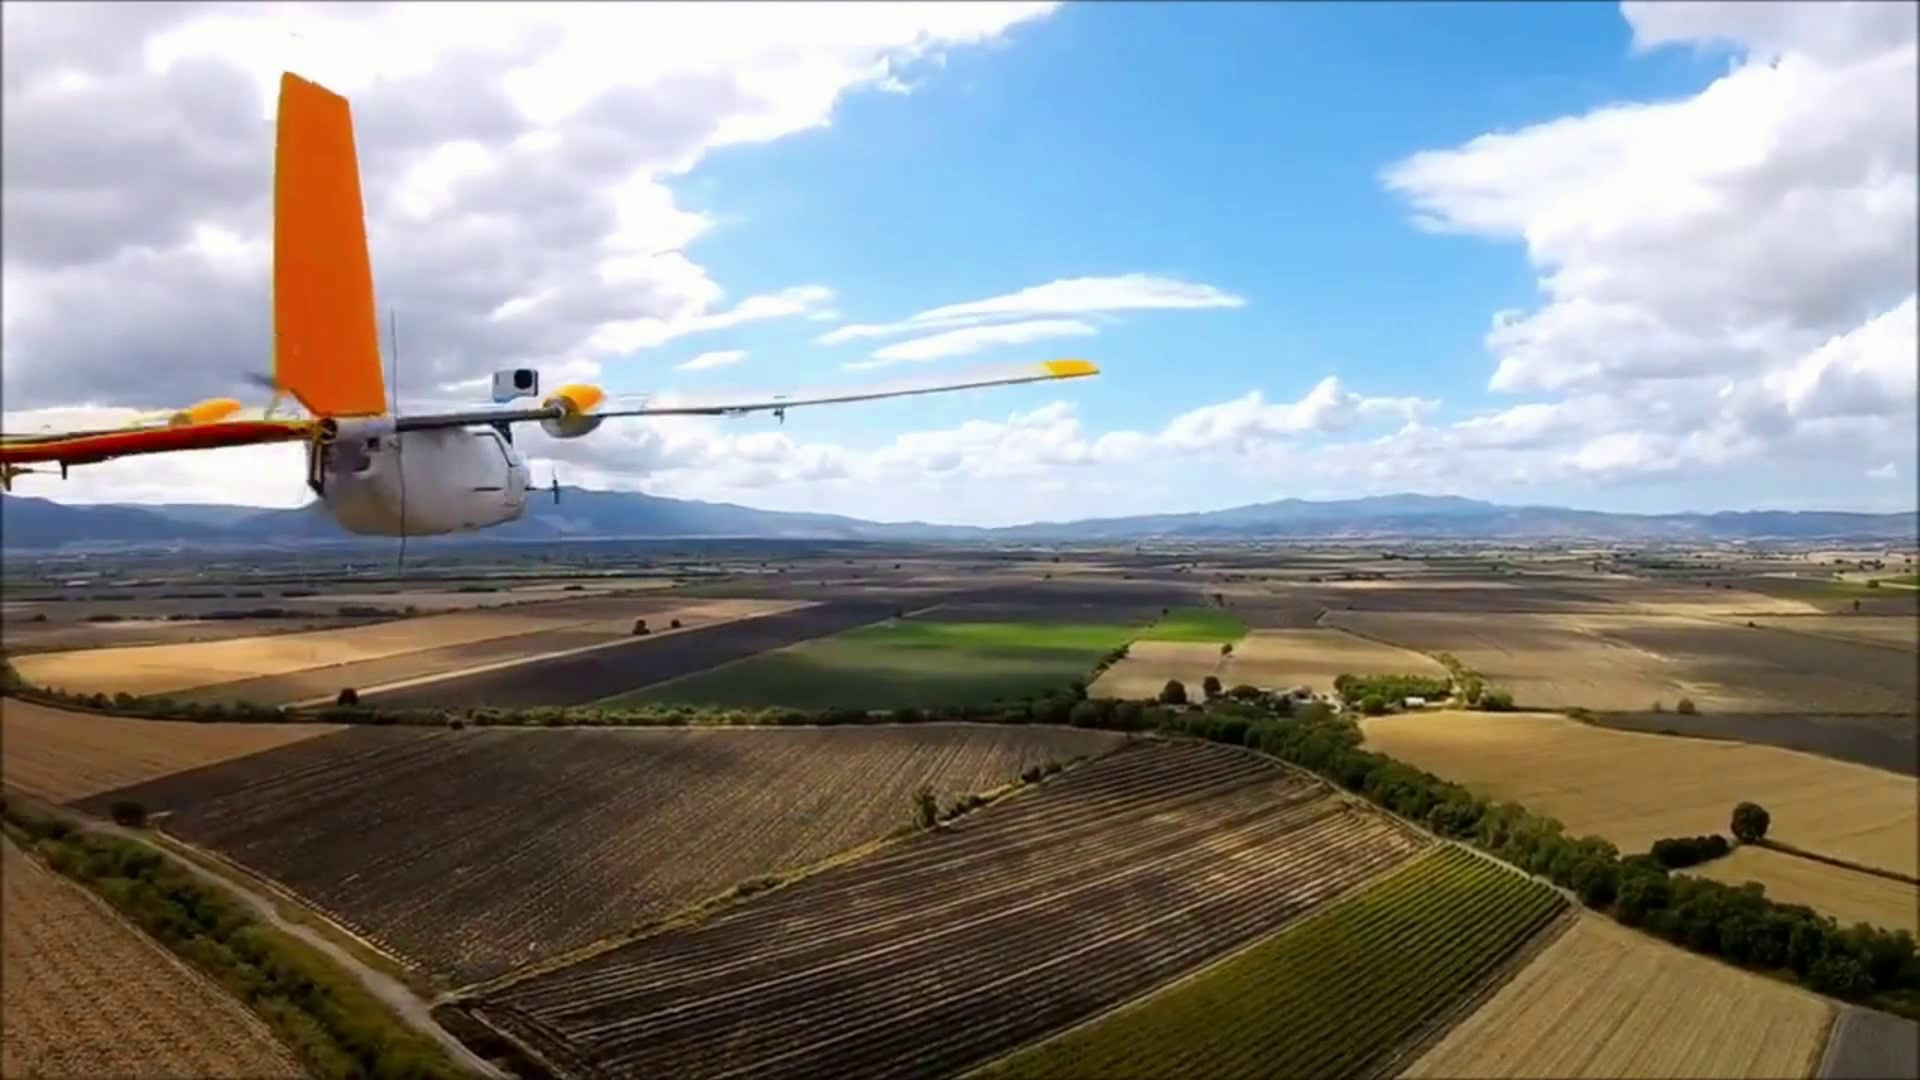airplane: (4, 70, 1100, 543), (4, 71, 611, 538)
